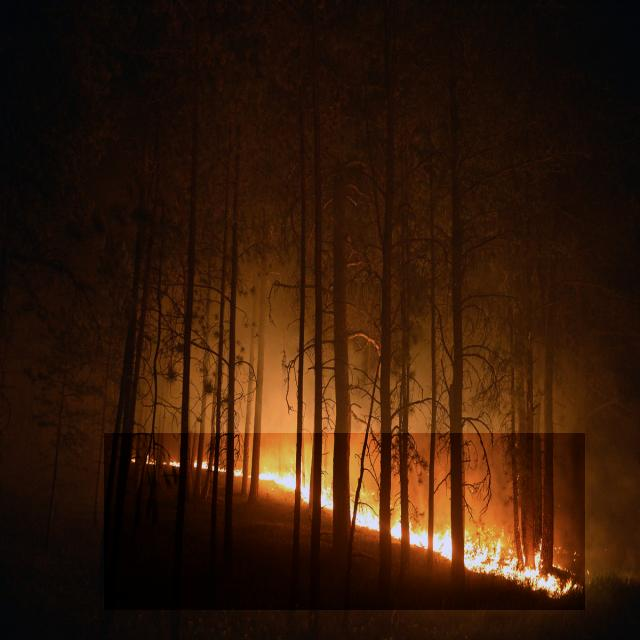Fire: (104, 433, 585, 610)
